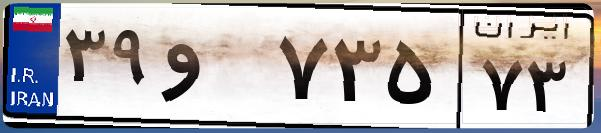3: (330, 28, 385, 110), (57, 26, 110, 100), (525, 38, 570, 115)
5: (385, 28, 445, 110)
7: (270, 28, 330, 110), (475, 38, 525, 113)
9: (110, 28, 158, 98)
و: (158, 20, 270, 120)
